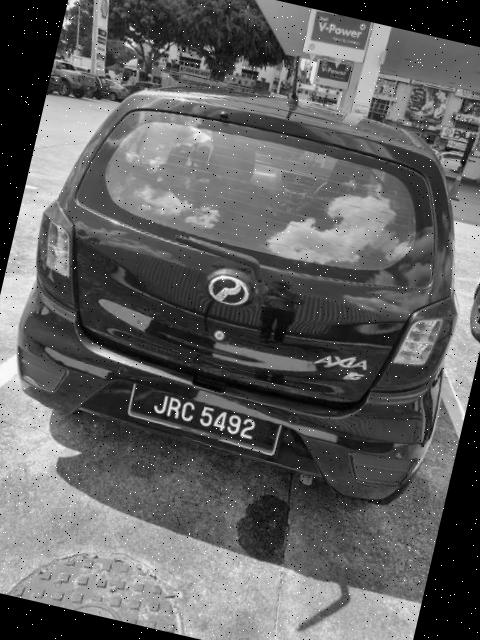License_Plate: (124, 382, 285, 457)
car: (1, 48, 480, 515)
